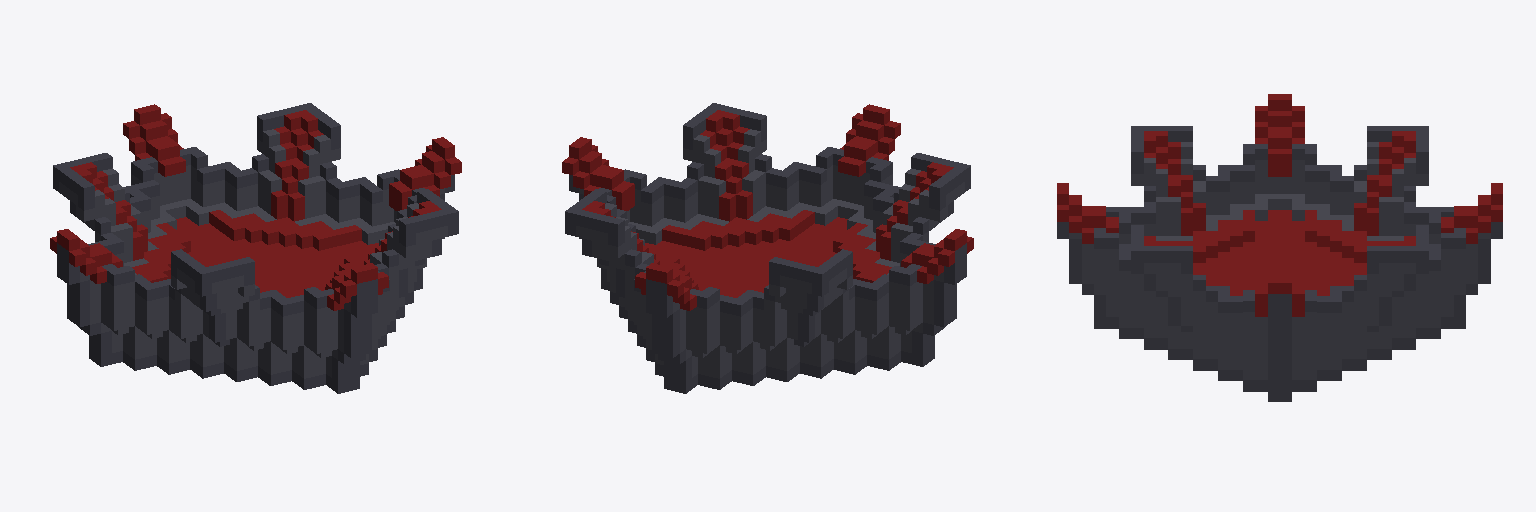
The picture shows the model from 3 angles: view 1: azimuth 30°, elevation 25°; view 2: azimuth 150°, elevation 25°; view 3: azimuth 270°, elevation 25°; orthographic projection.
Parts seen in each view (by area): view 1: object 1; view 2: object 1; view 3: object 1.
Boxes of the visible parts, box(x1,y1,x2,y2) form: object 1: box(50, 103, 461, 393); object 1: box(562, 103, 973, 393); object 1: box(1057, 94, 1502, 401).
Bounding box in the file's own units: 3.6 × 1.2 × 3.6.
Materials: 1 (1 with a texture image).